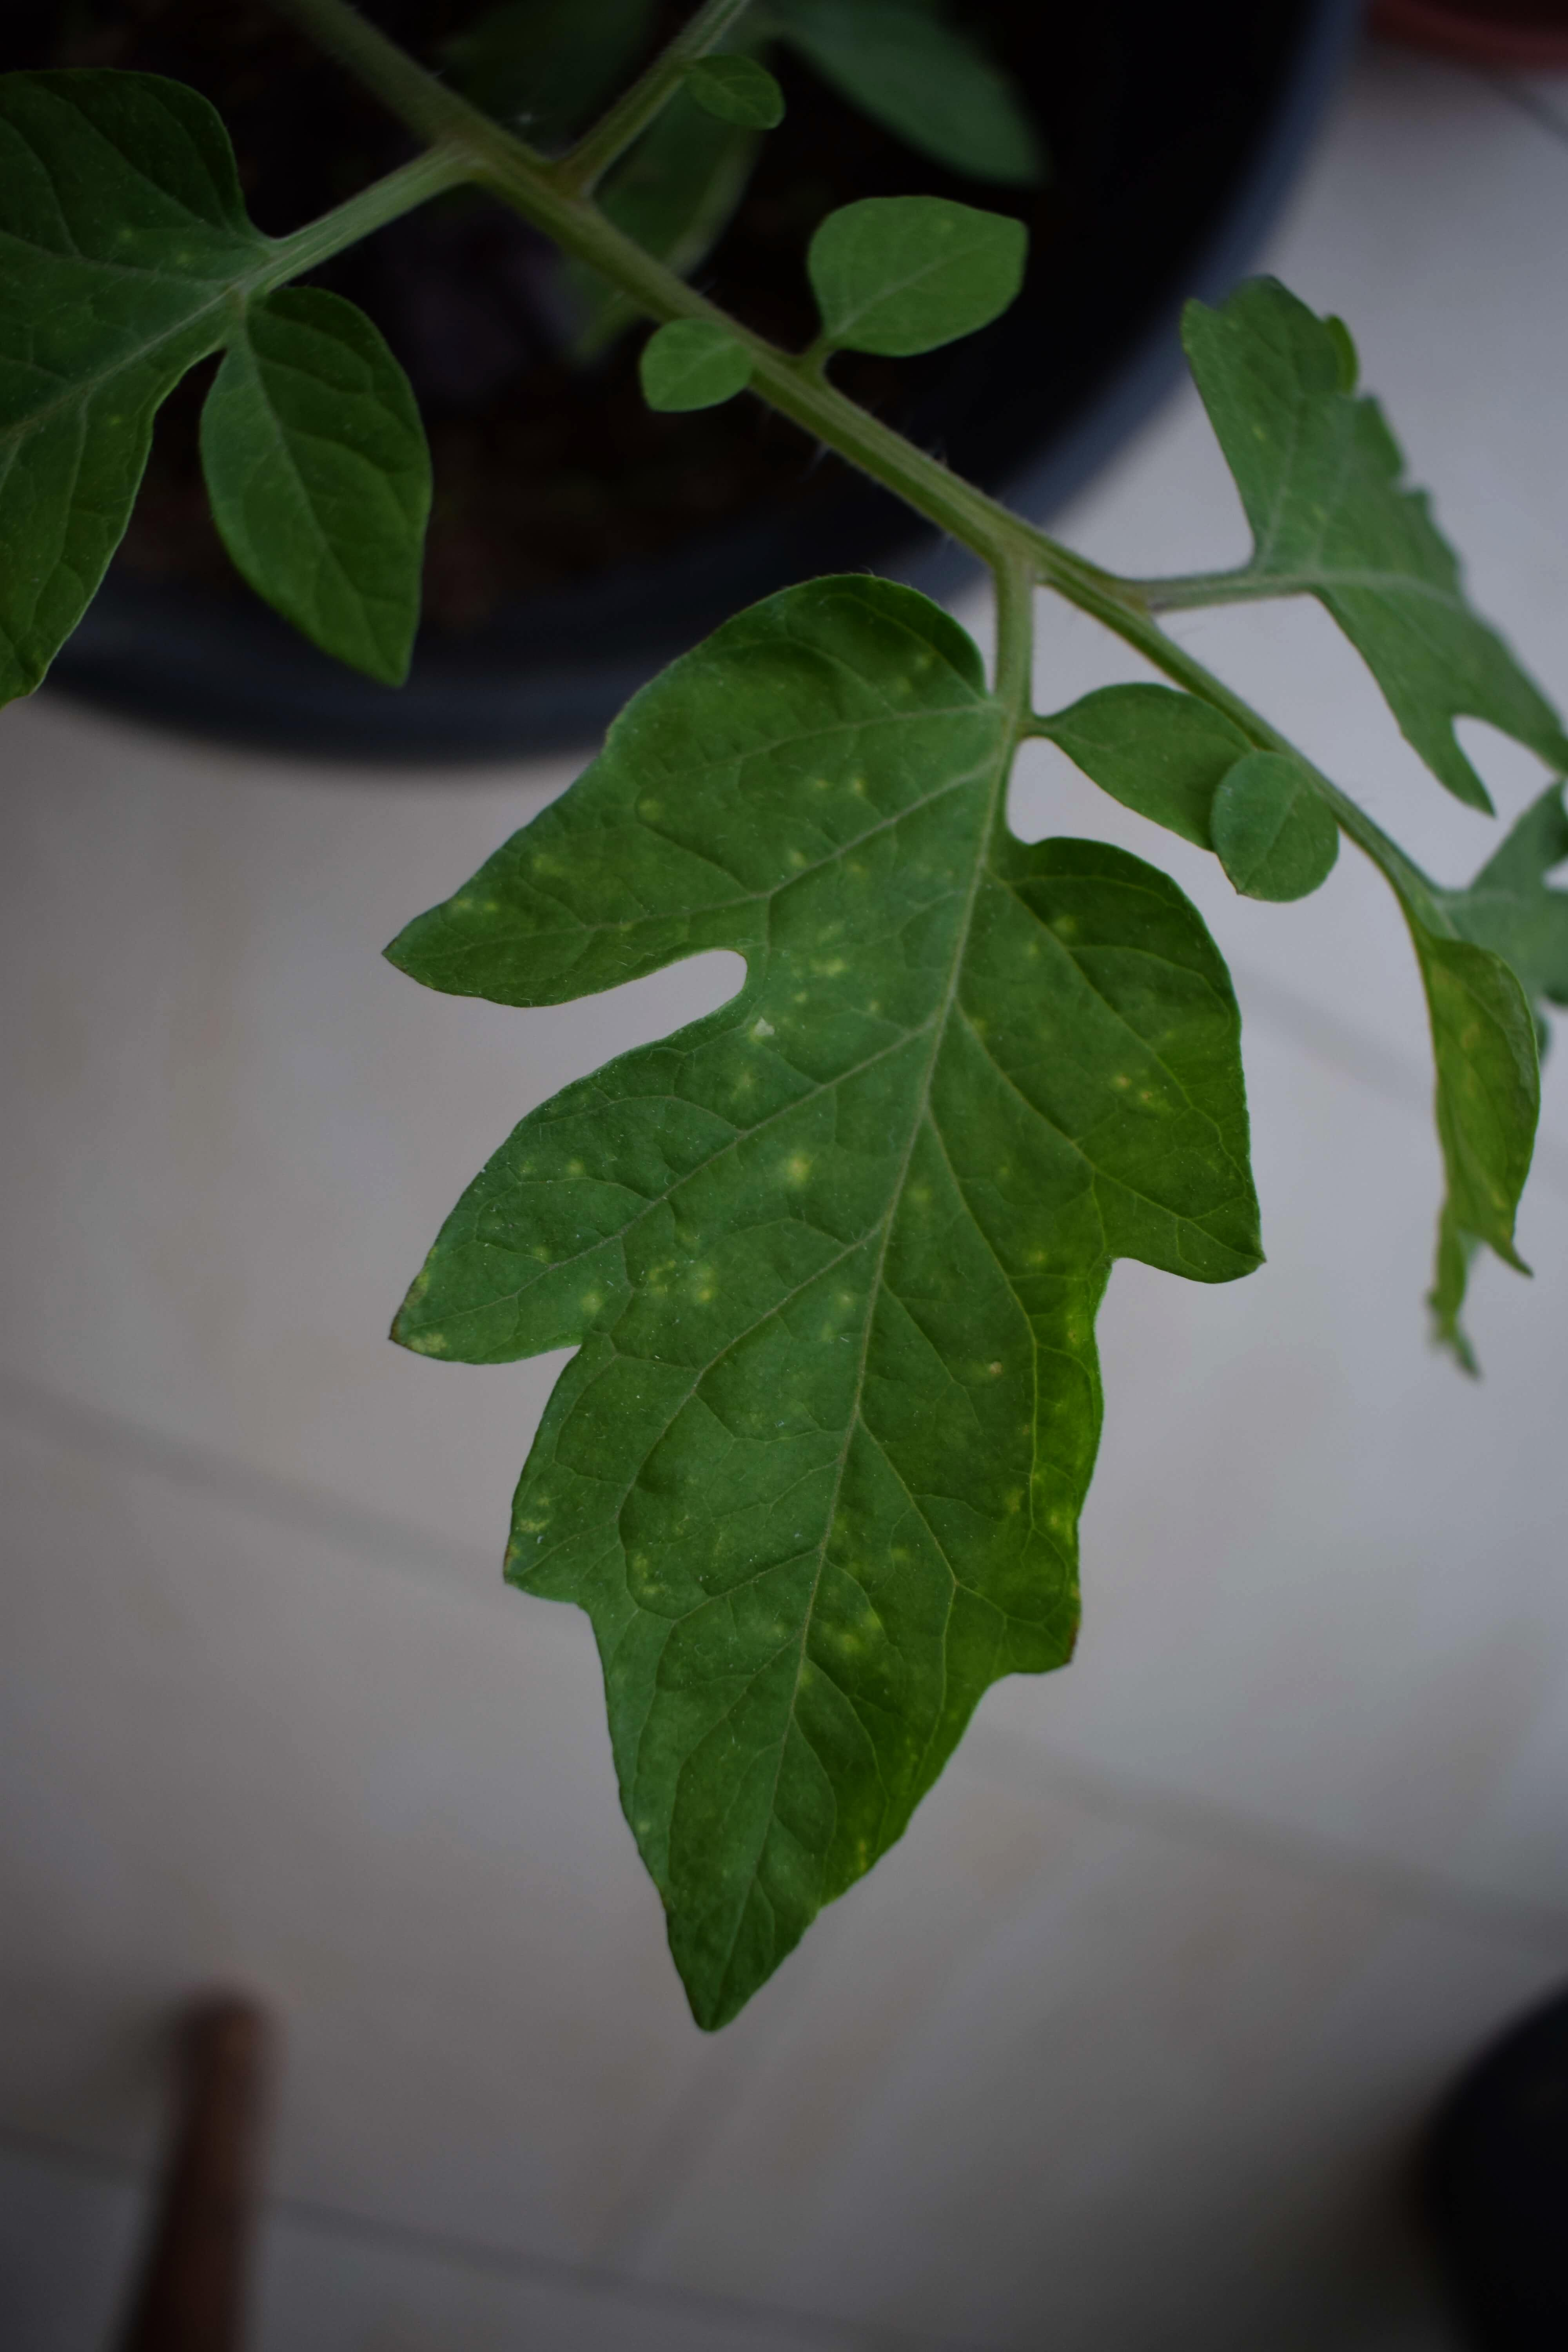Tomato mold leaf: (359, 583, 1277, 2097)
